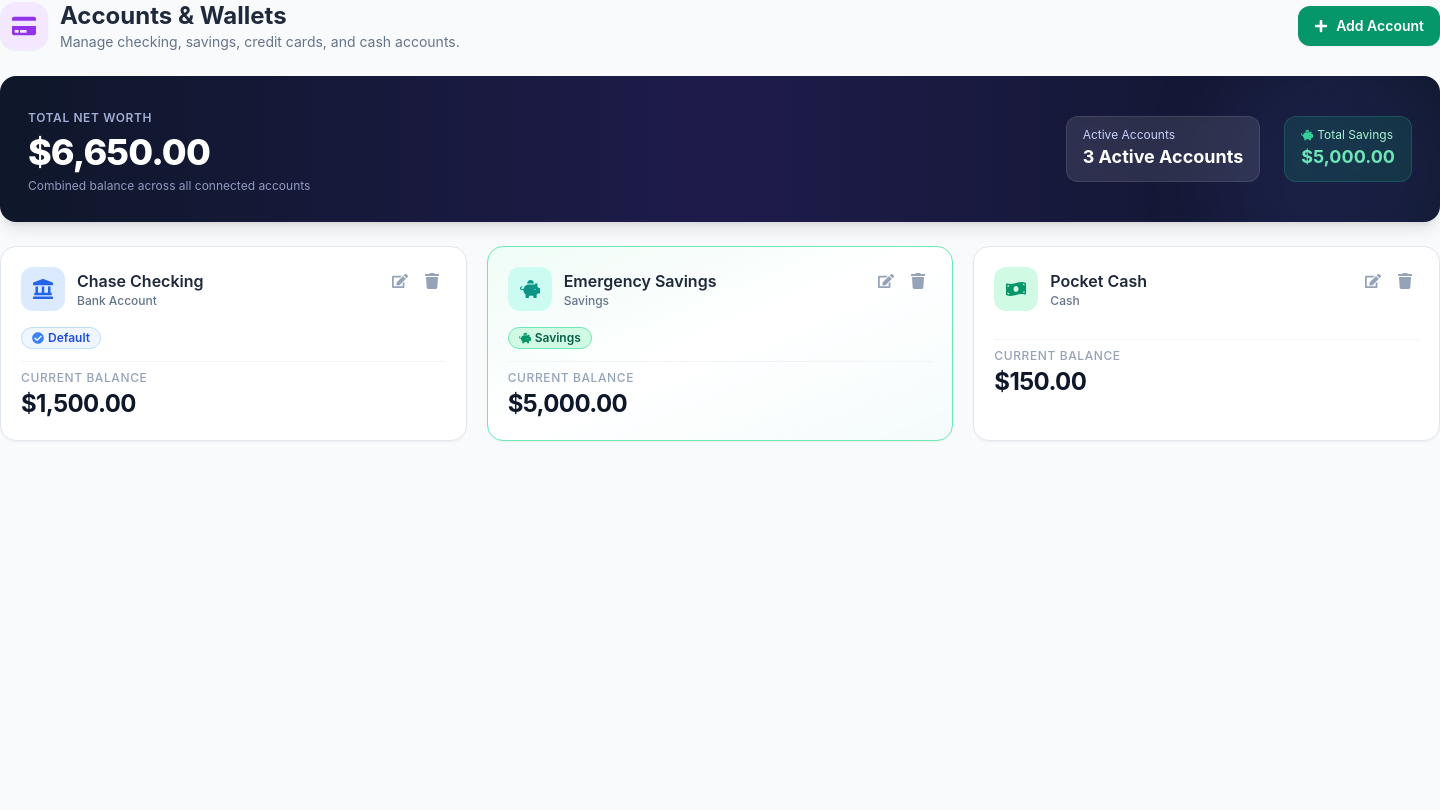
Test case: AccountsPage Component › opens AccountModal in Add mode when Add Account CTA is clicked
Click the button with test id "add-account-btn" at (1369, 26), box [1298, 6, 1439, 46]
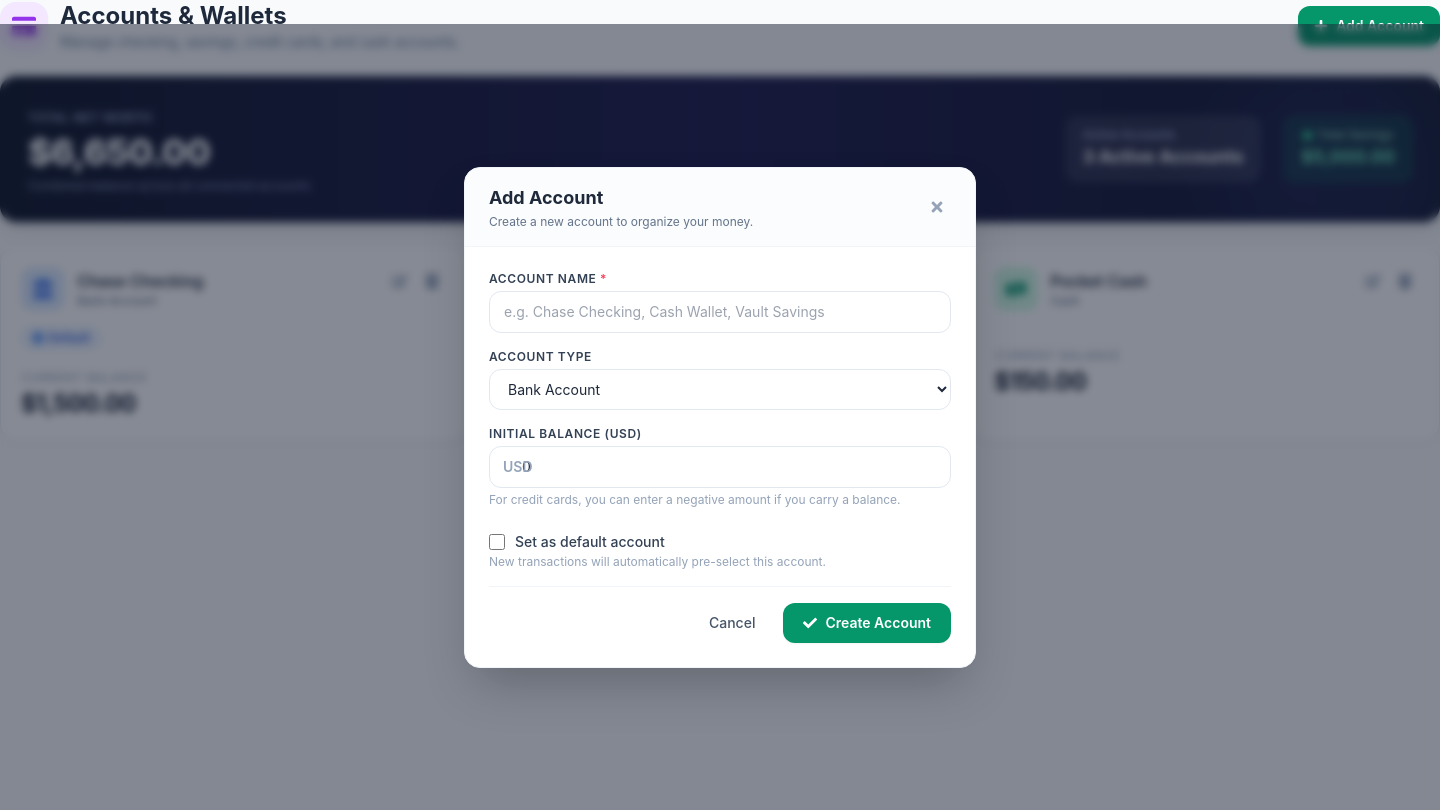
Expected: the dialog with test id "account-modal" is shown
Expected: the heading "Add Account" is shown, [489, 186, 603, 208]
